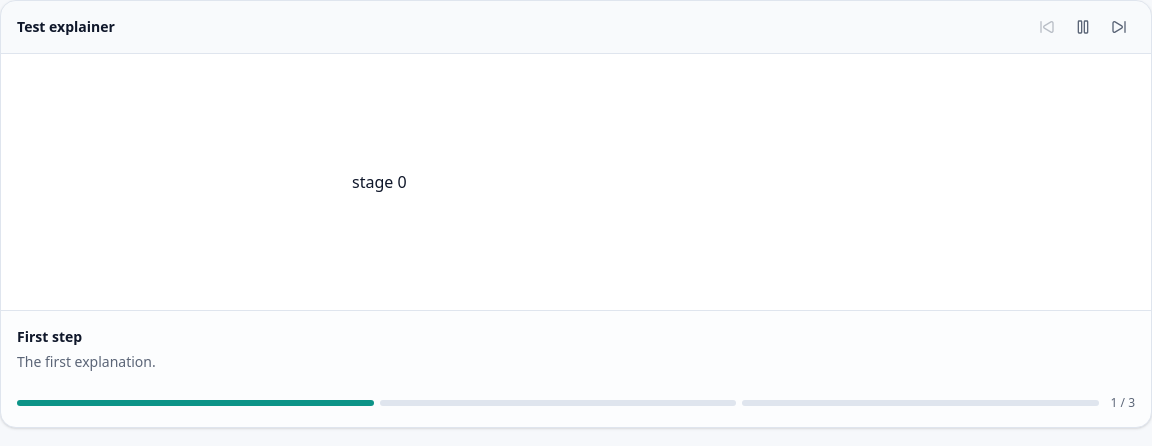
Test: ConceptExplainer › advances and rewinds with the step controls
Click the button named "Next step": (1119, 27) [1103,11,1135,43]
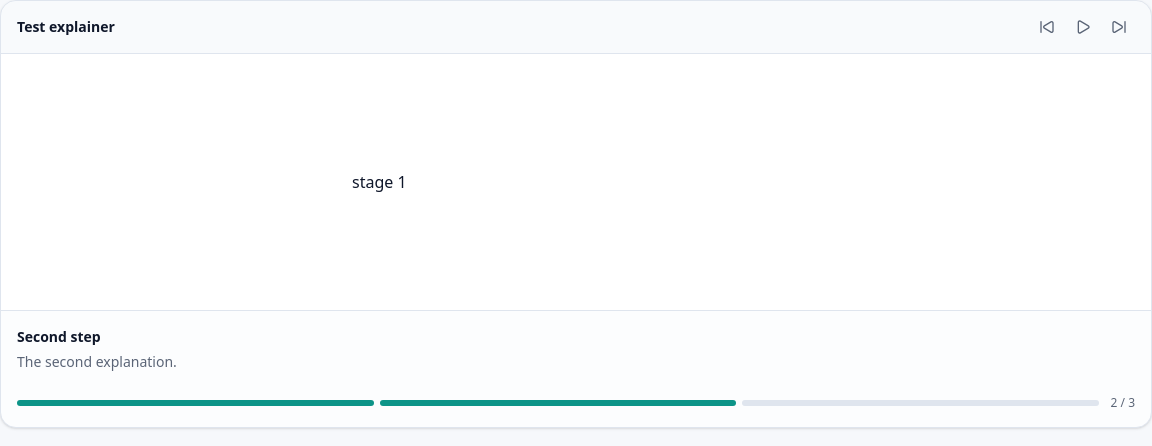
Now the text "Second step" is shown, box [17,327,101,346]
Click the button named "Previous step": (1047, 27) [1031,11,1063,43]
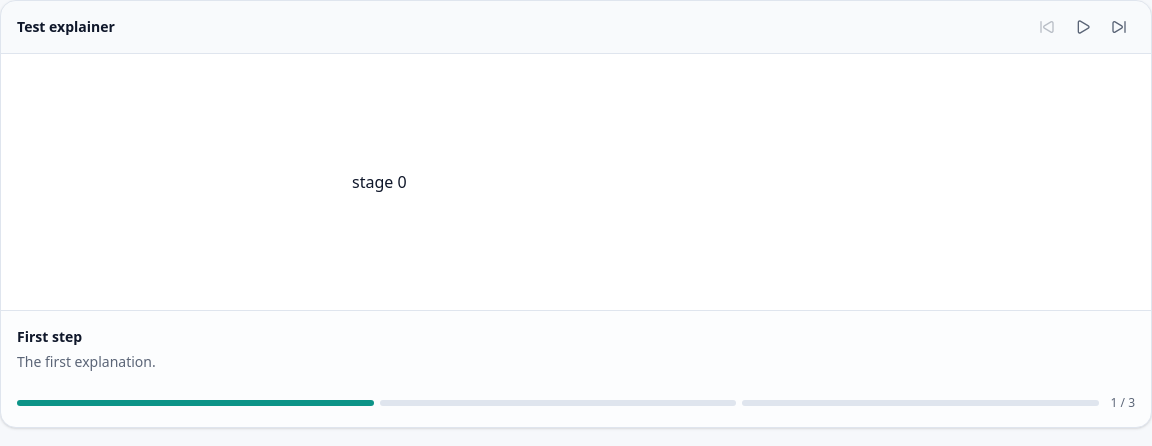
Now the text "First step" is shown, box [17,327,82,346]
